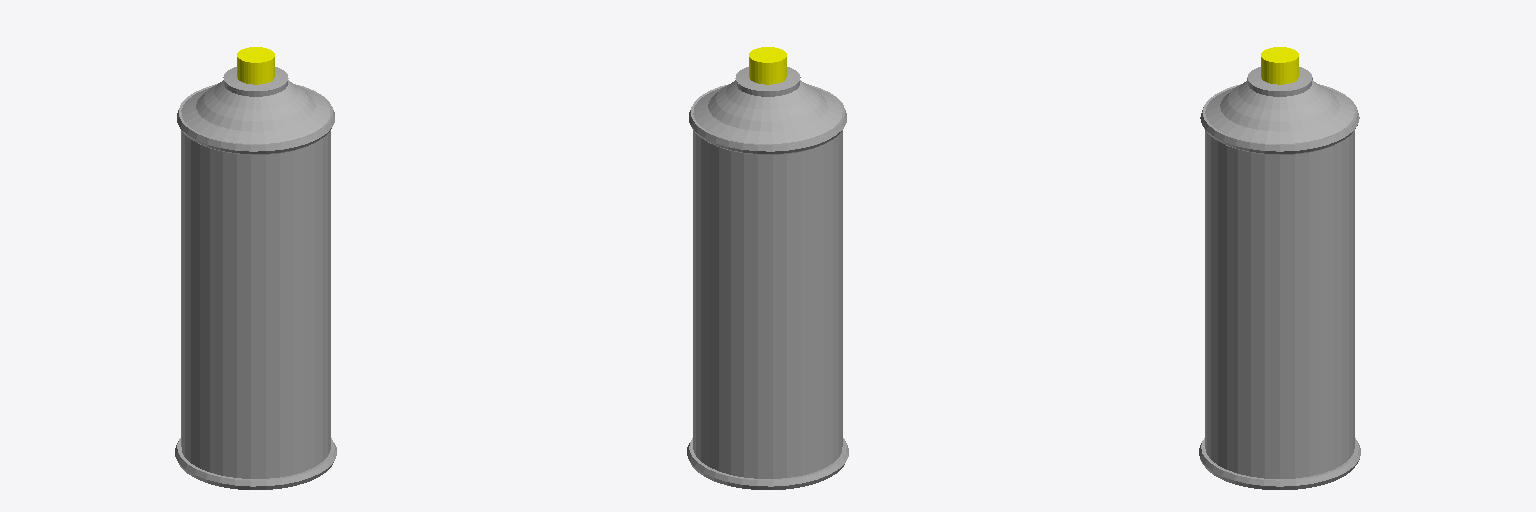
File: berbahaya4.obj
3 renders of one model, left to right at view 1: azimuth 30°, elevation 25°; view 2: azimuth 150°, elevation 25°; view 3: azimuth 270°, elevation 25°, orthographic.
Visible parts, largest first — view 1: Cylinder; view 2: Cylinder; view 3: Cylinder.
Part boxes in pixels (x1,y1,x2,y2): Cylinder: (175,47,336,489); Cylinder: (687,47,848,489); Cylinder: (1199,47,1360,489).
Size of the model in its own units: 1.73 by 4.71 by 1.73.